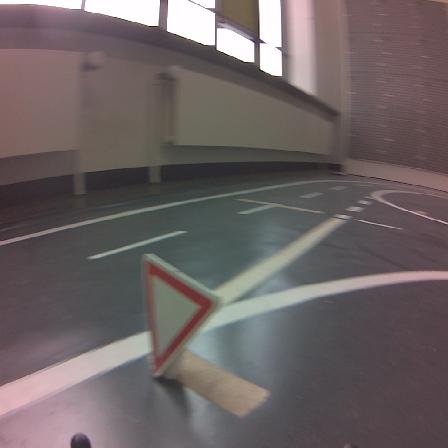GIVE_WAY: (142, 254, 219, 376)
